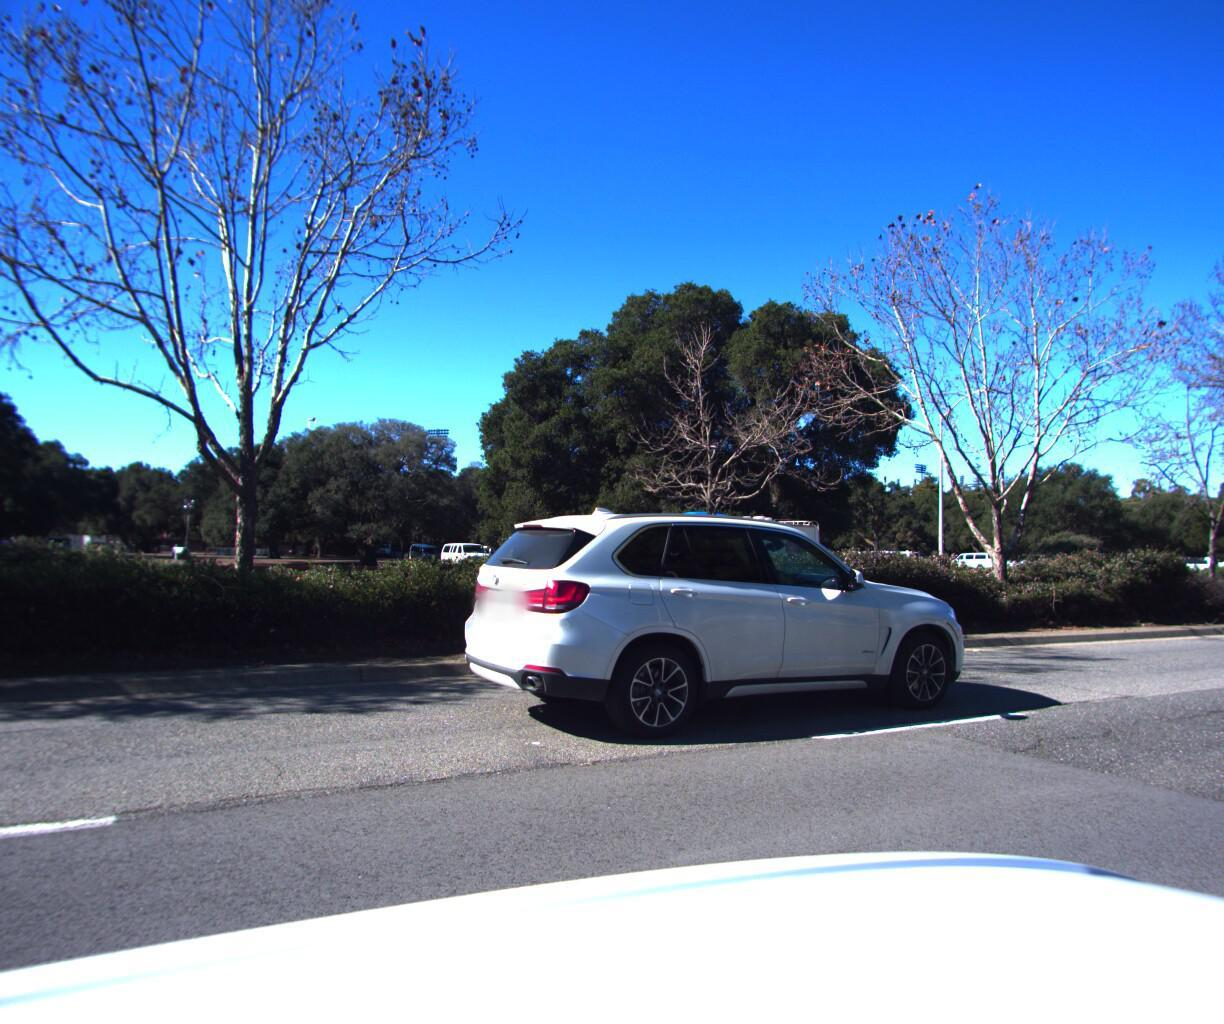car: (439, 493, 970, 755)
other_vehicle: (577, 498, 834, 606)
